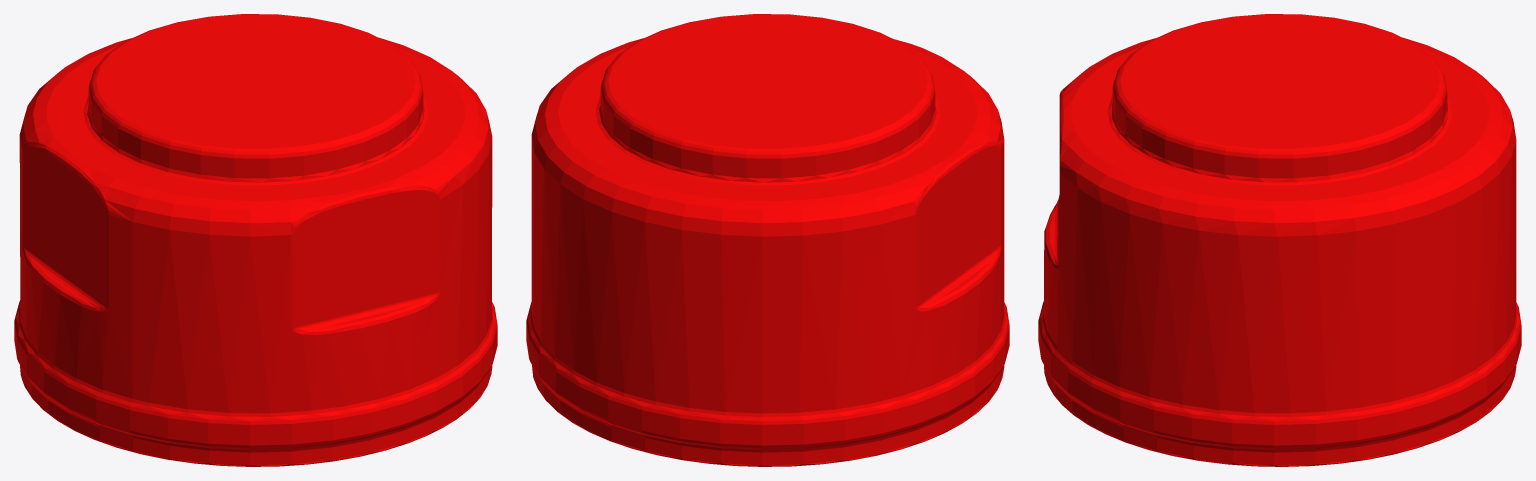
3 views of the same model, side by side, from view 1: azimuth 30°, elevation 25°; view 2: azimuth 150°, elevation 25°; view 3: azimuth 270°, elevation 25° (orthographic).
Parts seen in each view (by area): view 1: H2515_6_0; view 2: H2515_6_0; view 3: H2515_6_0.
Part boxes in pixels (box(x1,y1,x2,y2)): H2515_6_0: box(14, 14, 497, 466); H2515_6_0: box(526, 14, 1009, 466); H2515_6_0: box(1038, 14, 1521, 466).
Size of the model in its own units: 90.97 by 90.97 by 59.5.
